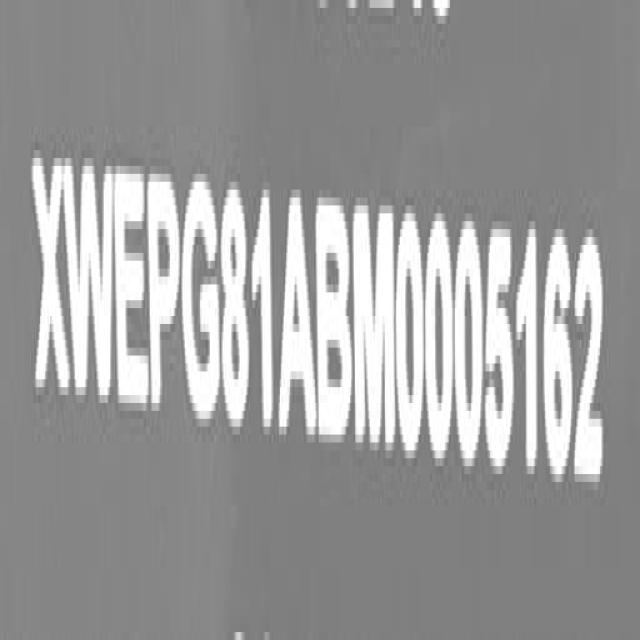0: (394, 214, 428, 477), (423, 196, 454, 468), (454, 223, 484, 471)
1: (516, 216, 542, 483), (249, 190, 274, 430)
2: (576, 208, 605, 486)
5: (485, 225, 516, 477)
6: (542, 225, 572, 474)
8: (219, 187, 249, 436)
A: (278, 196, 318, 439)
B: (314, 190, 355, 451)
E: (114, 155, 150, 416)
G: (181, 164, 223, 430)
M: (352, 196, 398, 445)
P: (147, 170, 180, 436)
W: (65, 149, 116, 413)
X: (30, 146, 71, 407)
